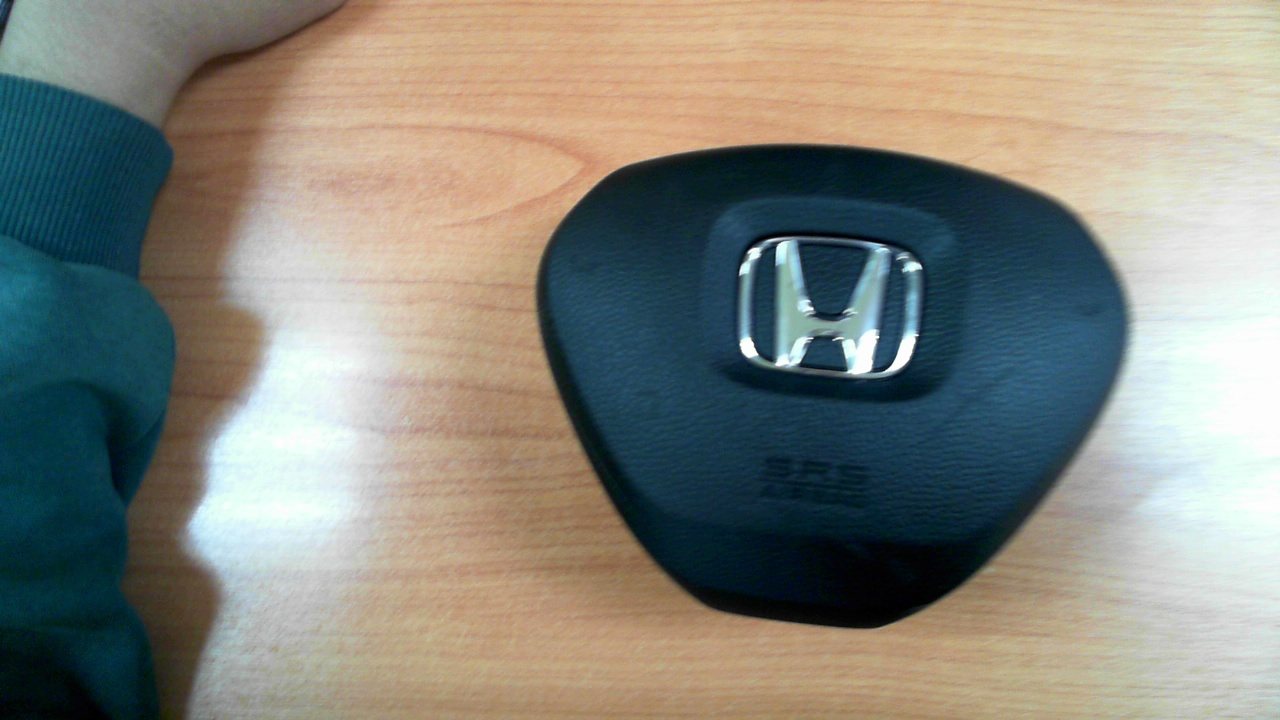Airbag: (536, 144, 1132, 629)
Honda: (739, 236, 923, 379)
